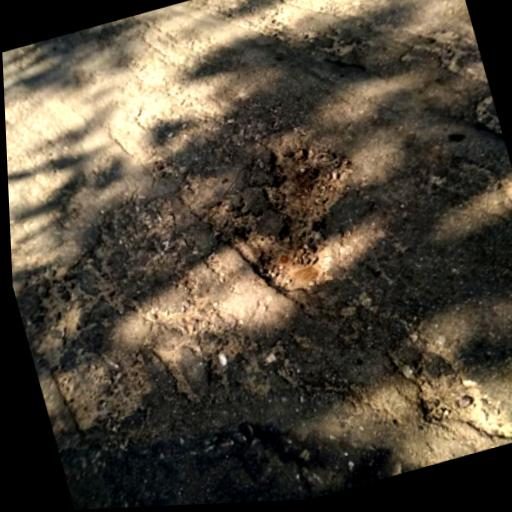pothole: (249, 129, 368, 229), (408, 355, 512, 462), (248, 216, 346, 303)
